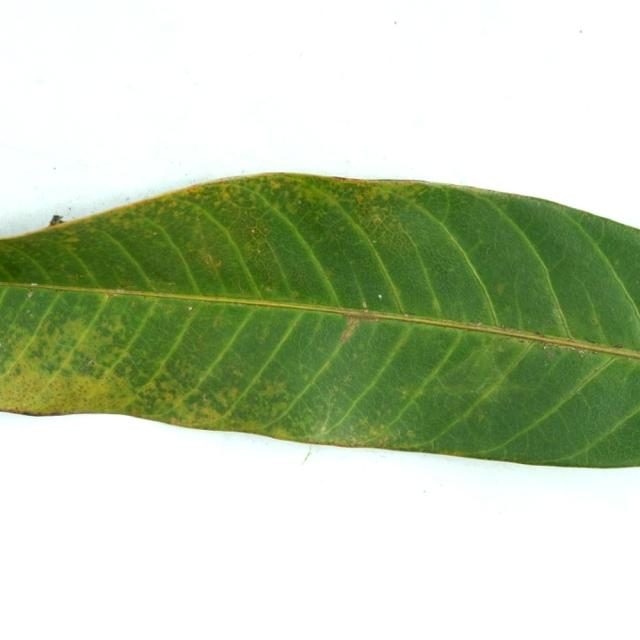Mango: (0, 174, 639, 467)
Powdery_Mildew: (221, 174, 326, 203), (63, 316, 133, 356), (167, 176, 273, 196), (147, 372, 201, 408), (241, 373, 291, 406), (37, 373, 83, 405), (353, 183, 396, 211), (191, 246, 222, 273), (210, 386, 242, 412), (153, 384, 181, 405), (35, 356, 61, 375), (55, 233, 81, 247), (215, 186, 231, 206), (231, 368, 242, 377), (401, 390, 409, 397)
